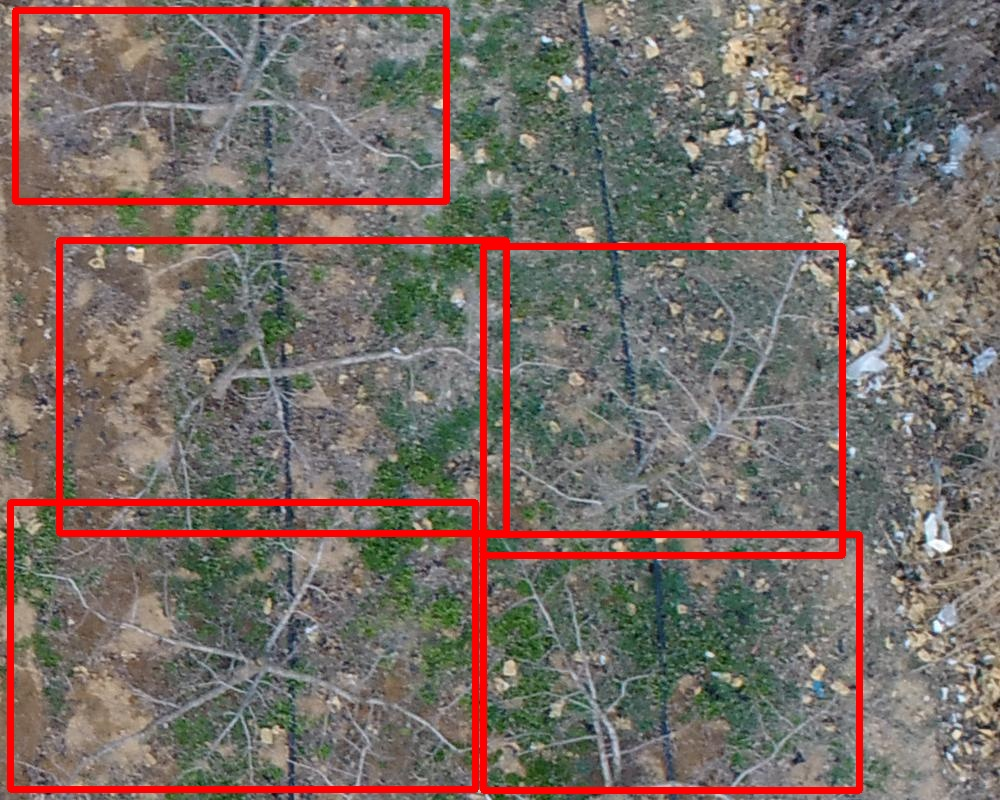apple: (10, 502, 475, 789), (59, 240, 506, 533), (483, 246, 842, 555), (483, 534, 859, 790), (15, 10, 446, 201)
